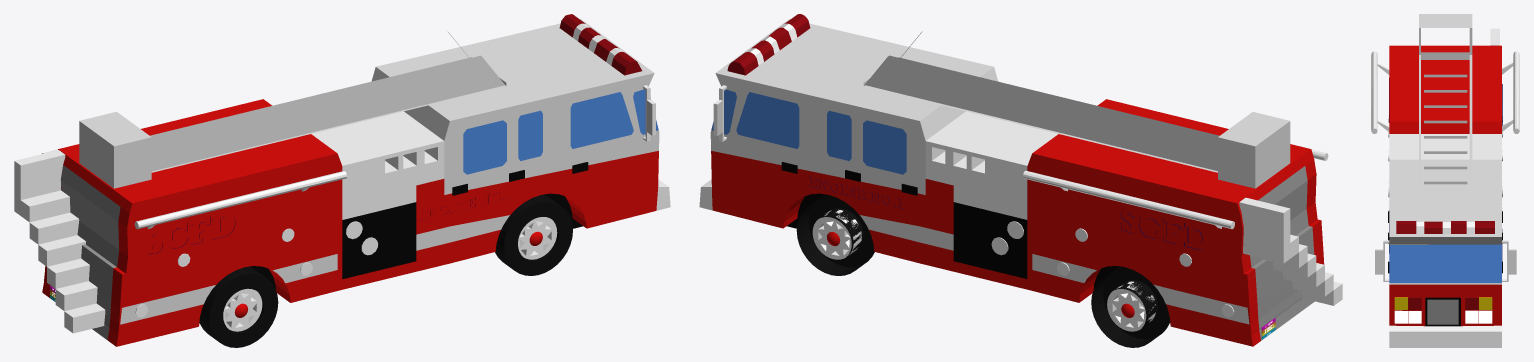
The model's file is Fire Truck.glb.
3 renders of one model, left to right at view 1: azimuth 30°, elevation 25°; view 2: azimuth 150°, elevation 25°; view 3: azimuth 270°, elevation 25°, orthographic. The views are drawn at different scales.
Parts seen in each view (by area): view 1: Body, Ladder, Wheels, Stairs, Rails, Lights, Underbelly, Mirrors; view 2: Body, Ladder, Wheels, Stairs, Rails, Lights, Underbelly, Mirrors; view 3: Body, Ladder, Rails, Lights, Mirrors, Stairs.
Boxes of the visible parts, bbox=[...] form: Body: bbox=[42, 18, 670, 346]; Ladder: bbox=[79, 31, 506, 188]; Wheels: bbox=[199, 194, 572, 347]; Stairs: bbox=[14, 150, 105, 333]; Rails: bbox=[42, 149, 346, 229]; Lights: bbox=[559, 14, 641, 75]; Underbelly: bbox=[249, 193, 582, 289]; Mirrors: bbox=[643, 85, 655, 141]; Body: bbox=[699, 19, 1324, 346]; Ladder: bbox=[863, 31, 1290, 188]; Wheels: bbox=[796, 194, 1170, 347]; Stairs: bbox=[1239, 197, 1342, 305]; Rails: bbox=[1023, 149, 1328, 229]; Lights: bbox=[727, 14, 810, 75]; Underbelly: bbox=[787, 193, 1170, 322]; Mirrors: bbox=[713, 85, 726, 141]; Body: bbox=[1388, 45, 1502, 347]; Ladder: bbox=[1419, 14, 1472, 186]; Rails: bbox=[1371, 51, 1519, 133]; Lights: bbox=[1396, 221, 1494, 233]; Mirrors: bbox=[1375, 240, 1516, 281]; Stairs: bbox=[1490, 28, 1499, 45].
Bounding box in the file's own units: 11.76 × 4.13 × 3.4.
